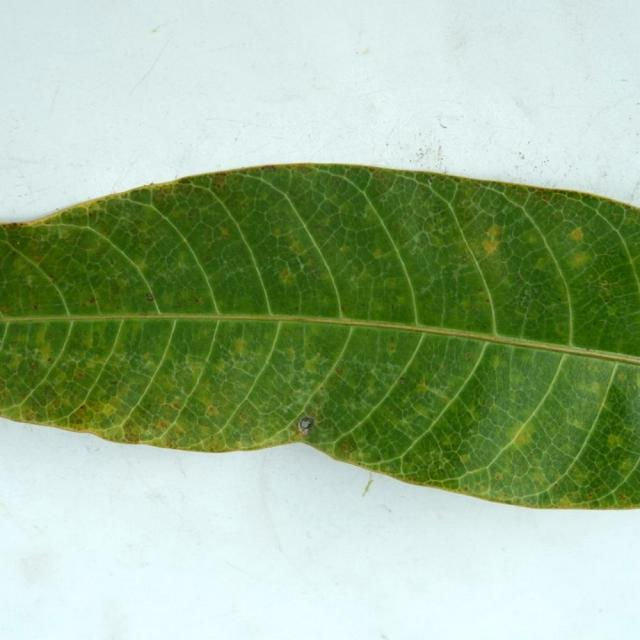Mango: (0, 165, 639, 508)
Powdery_Mildew: (251, 226, 333, 306), (511, 279, 549, 320), (148, 399, 186, 429), (479, 222, 506, 257), (122, 420, 143, 442), (185, 355, 207, 374), (512, 427, 532, 446), (107, 279, 124, 301), (70, 404, 88, 423), (570, 252, 590, 268), (534, 255, 554, 270), (413, 403, 431, 417), (383, 277, 402, 290), (234, 338, 248, 355), (100, 402, 117, 416), (466, 405, 480, 421), (338, 440, 356, 452), (414, 380, 429, 394), (304, 359, 319, 373), (164, 435, 179, 448), (549, 477, 562, 492), (386, 340, 398, 356), (570, 418, 586, 430), (569, 228, 583, 241), (607, 434, 620, 448), (554, 324, 568, 337), (24, 408, 37, 421), (489, 354, 501, 368), (289, 241, 302, 253), (58, 228, 71, 240), (212, 177, 224, 190), (606, 306, 620, 317), (371, 248, 384, 259), (440, 436, 453, 447), (599, 279, 612, 290), (560, 497, 574, 507), (25, 274, 36, 286), (156, 420, 169, 430), (219, 226, 229, 237), (280, 269, 290, 280), (207, 405, 218, 415), (460, 453, 471, 463), (29, 360, 40, 370), (1, 304, 11, 313), (75, 370, 85, 378), (32, 254, 42, 262), (617, 372, 626, 380), (172, 400, 180, 408), (336, 368, 344, 376), (146, 293, 154, 301), (621, 494, 630, 501), (88, 297, 96, 304), (494, 473, 501, 480), (192, 297, 200, 303), (465, 353, 472, 359), (238, 412, 245, 418), (587, 493, 594, 499), (33, 304, 39, 310), (47, 357, 52, 362)
